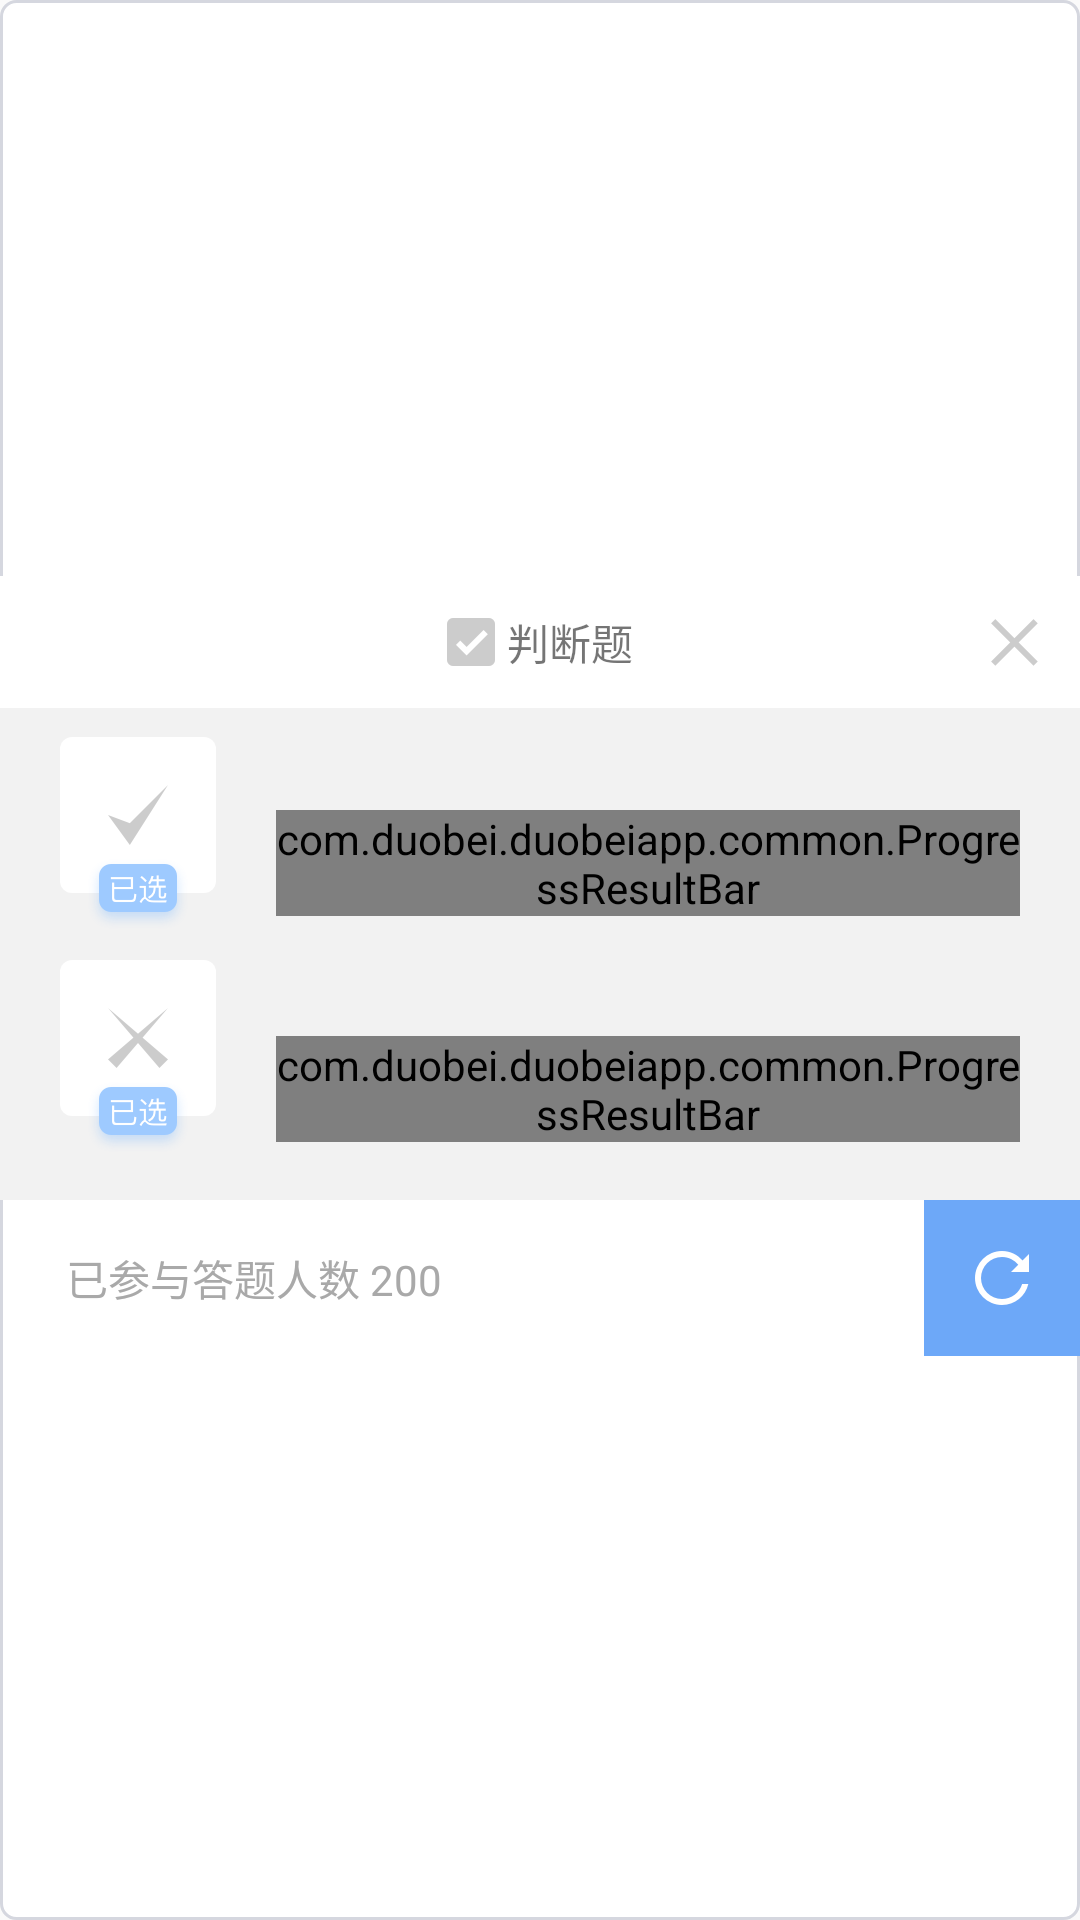

Where to tap for icons on this 1080px×1920px app screen, as (x,y):
answer close: (1014,642)
answer refresh: (1002,1278)
